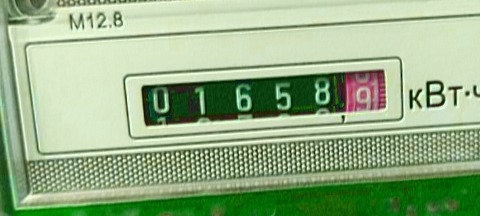0: (149, 83, 172, 116)
1: (193, 84, 208, 116)
5: (273, 79, 294, 113)
6: (233, 81, 255, 113)
8: (311, 75, 333, 108)
9: (352, 84, 372, 111)
screen: (114, 47, 410, 145)
